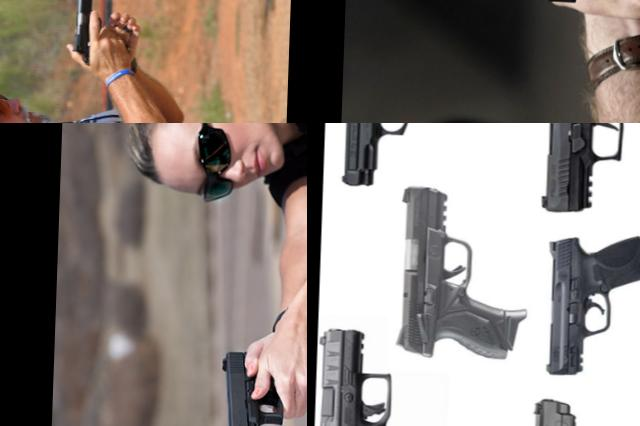handgun: (391, 182, 535, 364), (543, 227, 640, 379), (313, 324, 440, 426), (495, 0, 626, 76), (538, 123, 640, 215), (337, 123, 457, 191), (215, 346, 298, 426), (525, 392, 640, 426), (69, 0, 120, 67)
